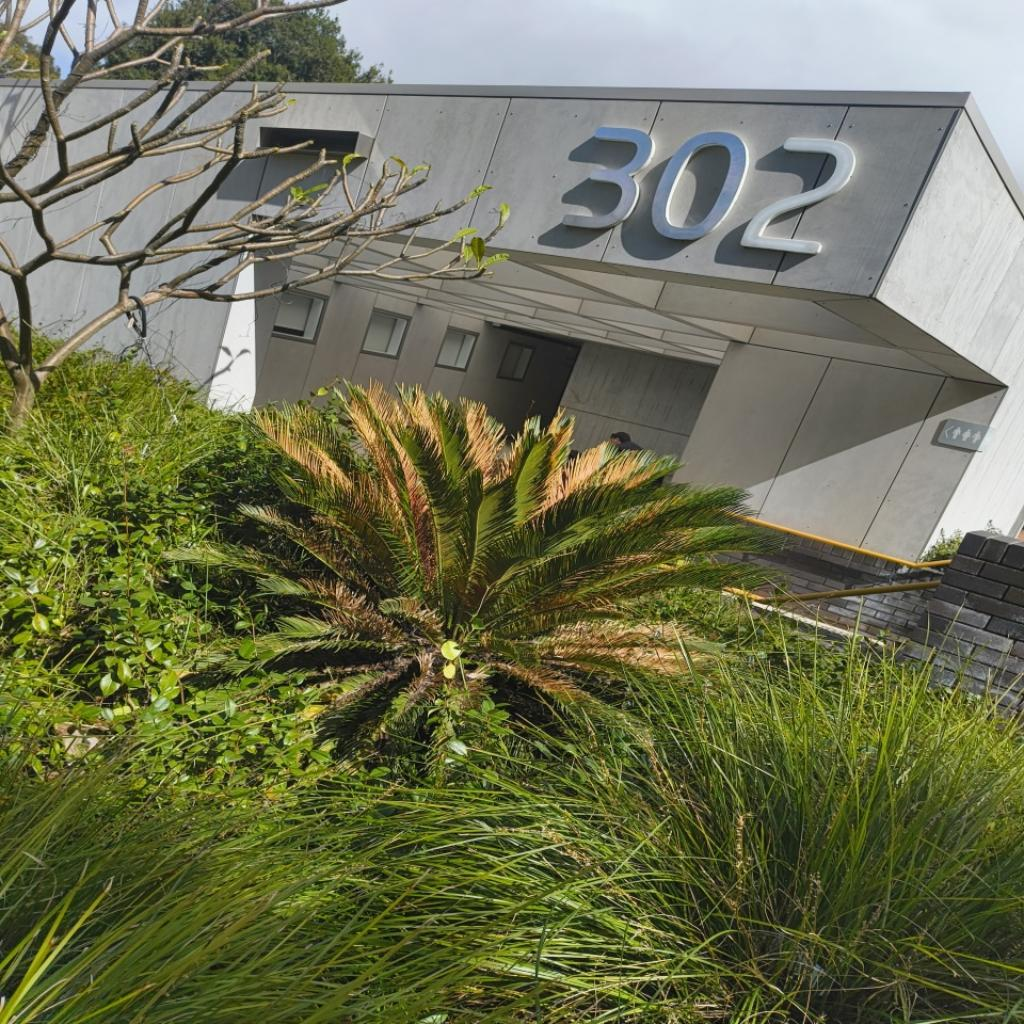BuildingCodes: (552, 118, 866, 280)
